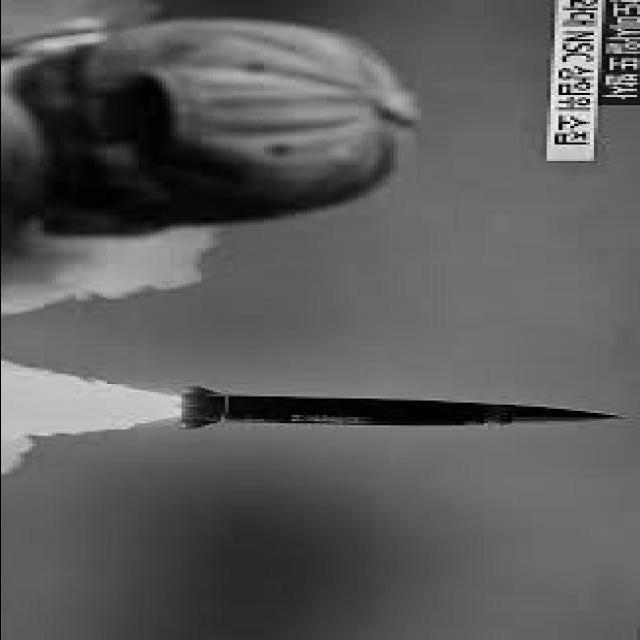Missile: (168, 384, 634, 438)
